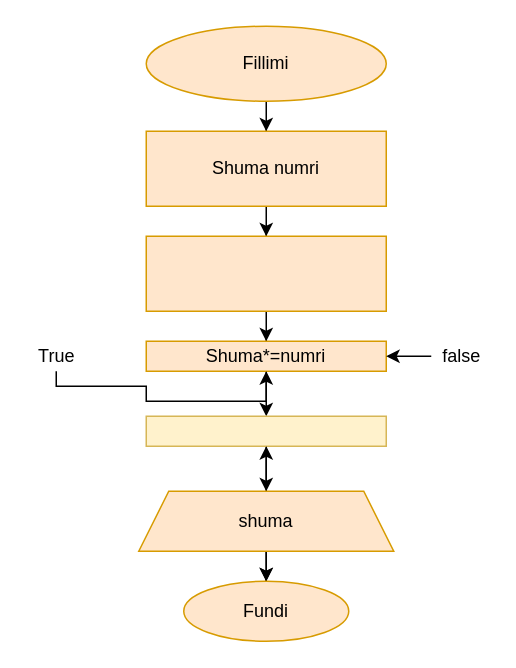
Some shapes in this 516 by 668 pixel diagram are drawn without their labels. The shapes that lost their labels are listed below. From the top down, each one's box as (x1, y1, x2, y2) in pixels, then its label:
(145, 235, 386, 311): numri <=50
(145, 415, 386, 446): numri++
